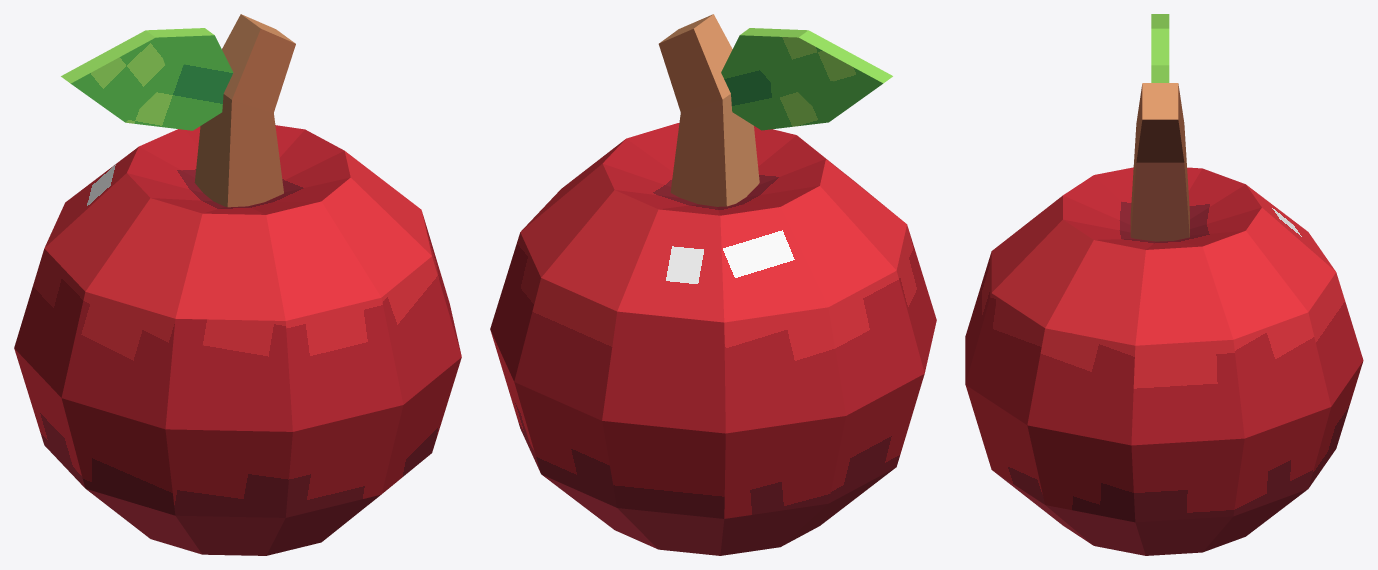
File: apple.fbx
3 renders of one model, left to right at view 1: azimuth 30°, elevation 25°; view 2: azimuth 150°, elevation 25°; view 3: azimuth 270°, elevation 25°, orthographic. The views are drawn at different scales.
Visible parts, largest first — view 1: sphere; view 2: sphere; view 3: sphere.
Part boxes in pixels (bbox=[...]): sphere: bbox=[14, 14, 461, 555]; sphere: bbox=[490, 14, 936, 555]; sphere: bbox=[965, 14, 1363, 555].
Bounding box in the file's own units: 83.82 × 108 × 82.97.
1 material, 1 textured.
